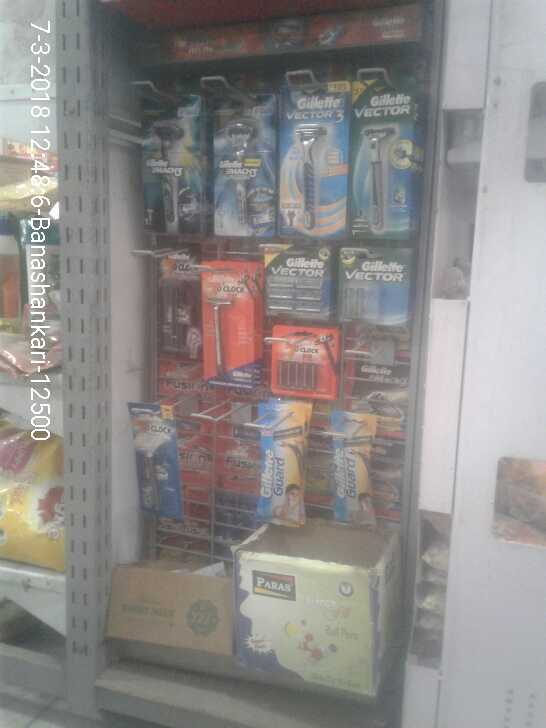gillette: (279, 88, 354, 241), (216, 84, 281, 249), (353, 87, 423, 239), (141, 82, 209, 235), (195, 256, 259, 387), (254, 401, 314, 532), (337, 247, 421, 329), (331, 408, 377, 531), (261, 330, 344, 393), (263, 250, 331, 326), (134, 402, 173, 523)
